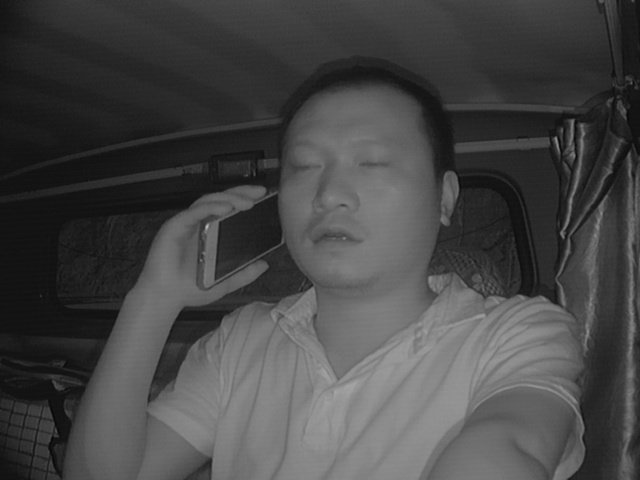hand: (154, 184, 268, 299)
